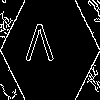V: (25, 25, 54, 70)
